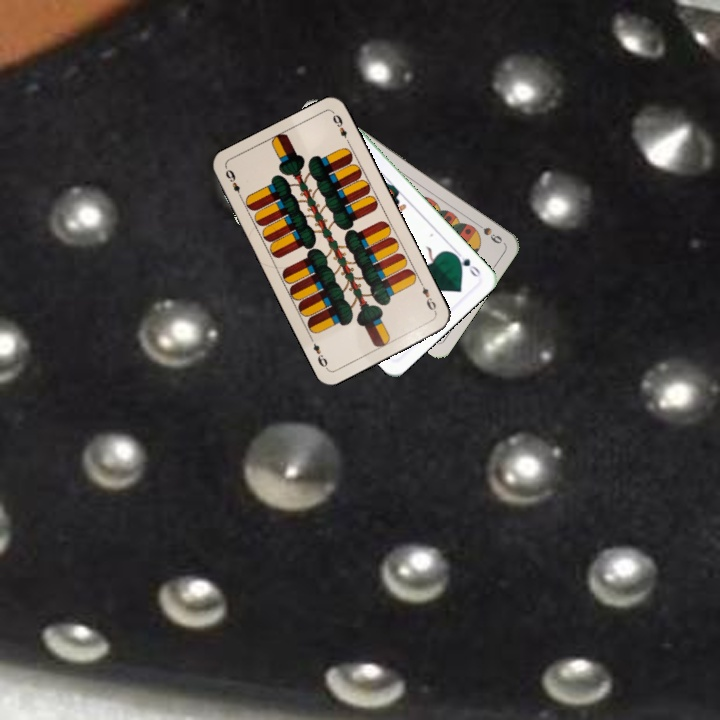E9: (221, 165, 245, 203), (416, 277, 439, 316)
GO: (449, 246, 483, 280)
S9: (470, 218, 505, 247)
